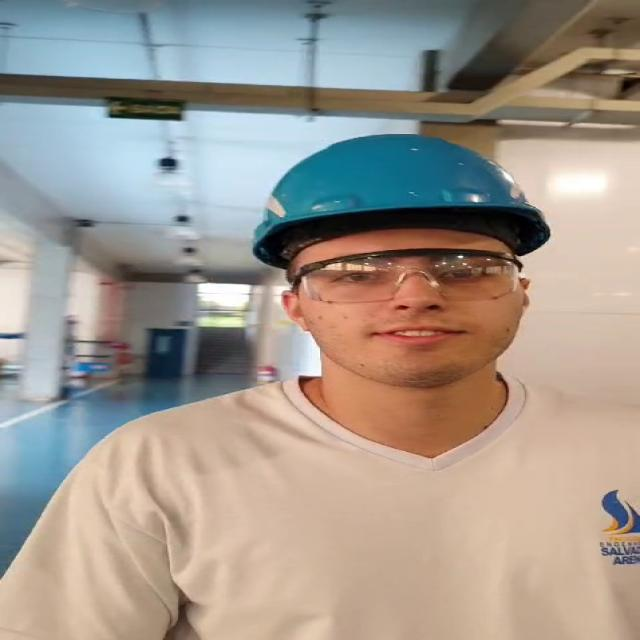oculos-epi: (293, 248, 521, 303)
